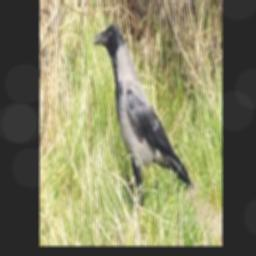Crow: (92, 24, 193, 205)
